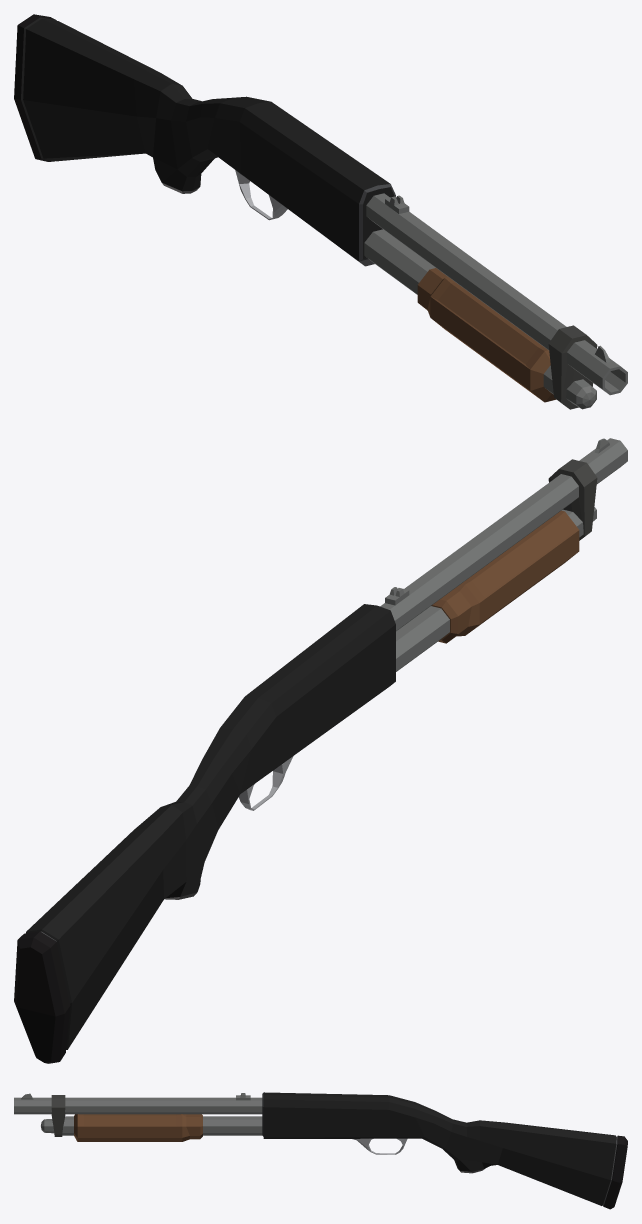
Rendered from Shotgun.fbx.
The picture shows the model from 3 angles, top to bottom: view 1: azimuth 30°, elevation 25°; view 2: azimuth 150°, elevation 25°; view 3: azimuth 270°, elevation 25°; orthographic projection. The views are drawn at different scales.
Parts seen in each view (by area): view 1: Cube; view 2: Cube; view 3: Cube.
Boxes of the visible parts, left/top/right/bottom form: Cube: left=14, top=14, right=627, bottom=409; Cube: left=14, top=438, right=627, bottom=1063; Cube: left=14, top=1092, right=627, bottom=1209.
Bounding box in the file's own units: 0.0584 × 0.2414 × 1.16.
